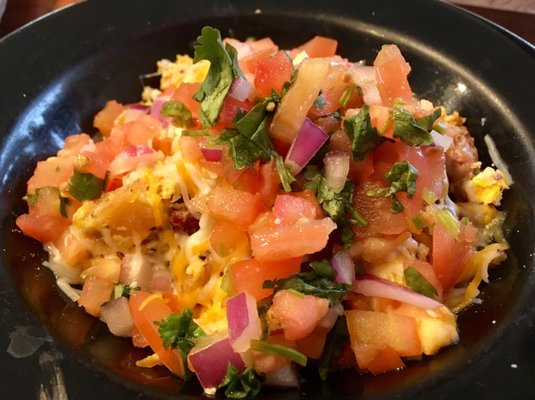curry: (191, 25, 238, 124), (154, 307, 207, 354)
sushi: (2, 16, 534, 390)
